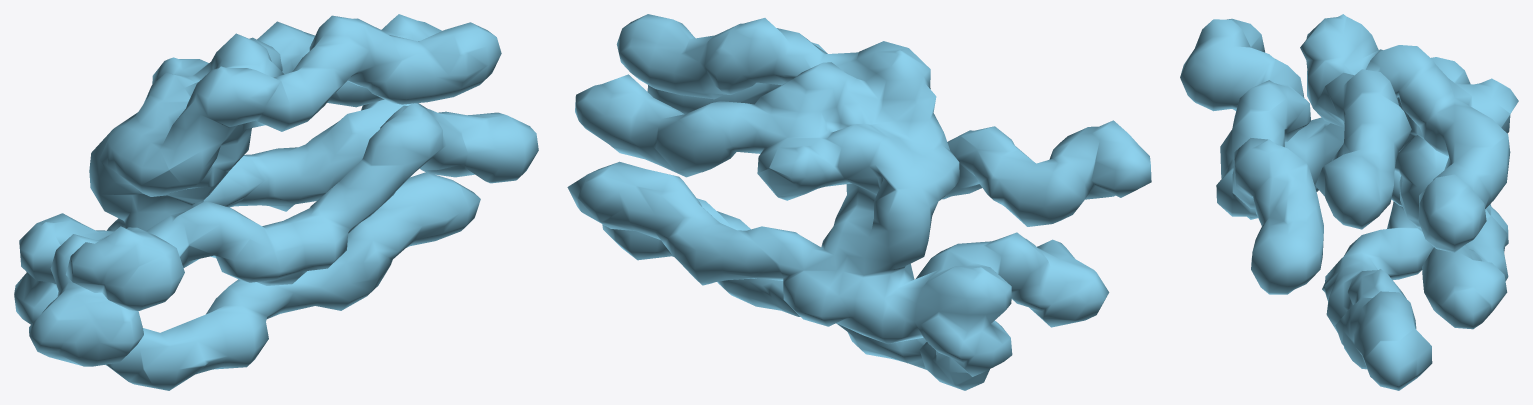
File: Vesicle_128to132hexamer1Aligned.fbx
The picture shows the model from 3 angles, left to right: view 1: azimuth 30°, elevation 25°; view 2: azimuth 150°, elevation 25°; view 3: azimuth 270°, elevation 25°; orthographic projection. The views are drawn at different scales.
Visible parts, largest first — view 1: vesicle_MeshVes128Mesh; view 2: vesicle_MeshVes128Mesh; view 3: vesicle_MeshVes128Mesh.
Boxes of the visible parts, x1,y1,x2,y2 form: vesicle_MeshVes128Mesh: (14,14,538,390); vesicle_MeshVes128Mesh: (567,14,1151,390); vesicle_MeshVes128Mesh: (1180,14,1518,390).
Bounding box in the file's own units: 211 × 134 × 126.
